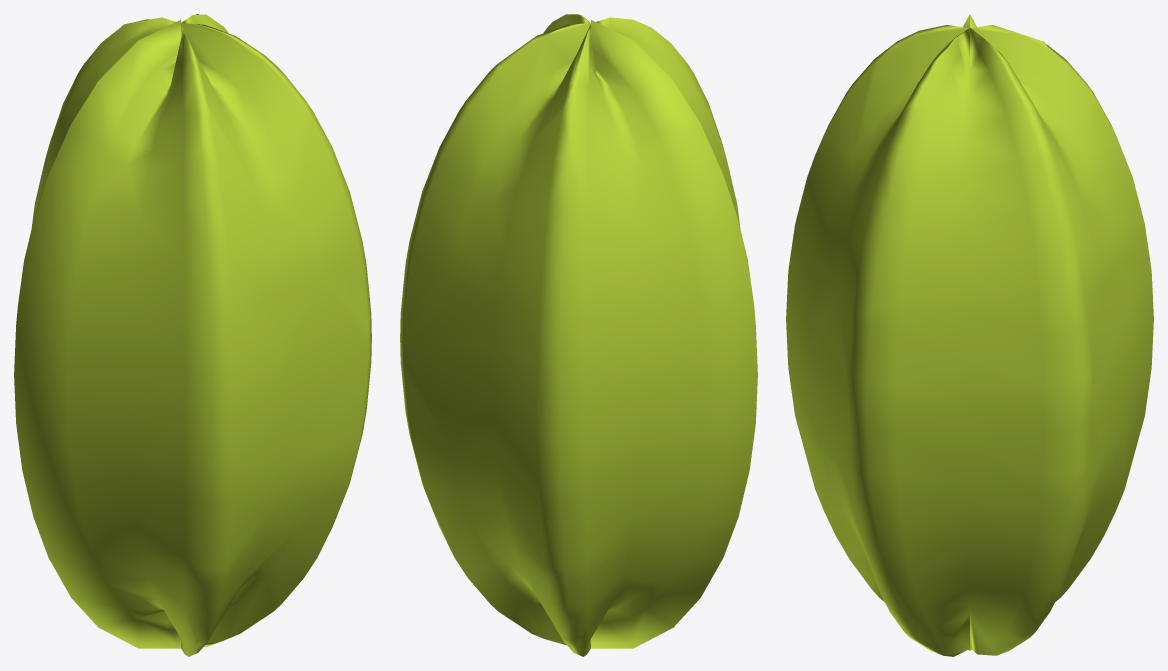
The model's file is updatedStarFruit.fbx.
3 views of the same model, side by side, from view 1: azimuth 30°, elevation 25°; view 2: azimuth 150°, elevation 25°; view 3: azimuth 270°, elevation 25° (orthographic).
Visible parts, largest first — view 1: nurbsToPoly1; view 2: nurbsToPoly1; view 3: nurbsToPoly1.
Boxes of the visible parts, left/top/right/bottom form: nurbsToPoly1: left=14, top=14, right=371, bottom=656; nurbsToPoly1: left=400, top=14, right=757, bottom=656; nurbsToPoly1: left=786, top=14, right=1153, bottom=656.
Size of the model in its own units: 56.38 by 109 by 58.27.
